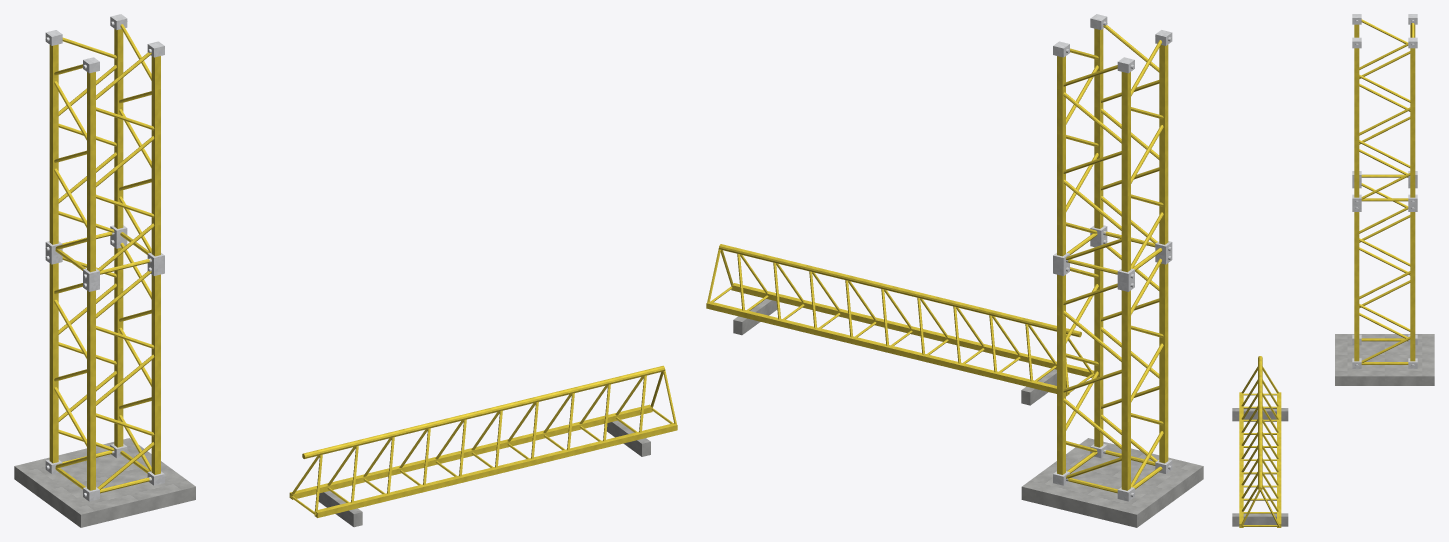
The model's file is tower-crane-mast-and-jib-sections.glb.
3 renders of one model, left to right at view 1: azimuth 30°, elevation 25°; view 2: azimuth 150°, elevation 25°; view 3: azimuth 270°, elevation 25°, orthographic. The views are drawn at different scales.
Parts seen in each view (by area): view 1: MastChords, JibSection, Lacing, Foundation&Sleepers(context), FishPlates&Pins; view 2: MastChords, JibSection, Lacing, Foundation&Sleepers(context), FishPlates&Pins; view 3: Foundation&Sleepers(context), JibSection, Lacing, MastChords, FishPlates&Pins.
Part boxes in pixels (x1,y1,x2,y2): MastChords: [49, 29, 160, 490]; JibSection: [289, 365, 677, 517]; Lacing: [54, 24, 154, 493]; Foundation&Sleepers(context): [14, 420, 650, 527]; FishPlates&Pins: [45, 14, 164, 501]; MastChords: [1057, 28, 1168, 490]; JibSection: [706, 244, 1094, 396]; Lacing: [1063, 25, 1163, 493]; Foundation&Sleepers(context): [733, 299, 1203, 527]; FishPlates&Pins: [1053, 14, 1172, 501]; Foundation&Sleepers(context): [1232, 334, 1434, 526]; JibSection: [1239, 356, 1281, 527]; Lacing: [1359, 19, 1414, 364]; MastChords: [1354, 24, 1415, 361]; FishPlates&Pins: [1352, 14, 1417, 368].
Bounding box in the file's own units: 14.83 × 11.95 × 6.5.
Materials: 3 (3 with a texture image).
